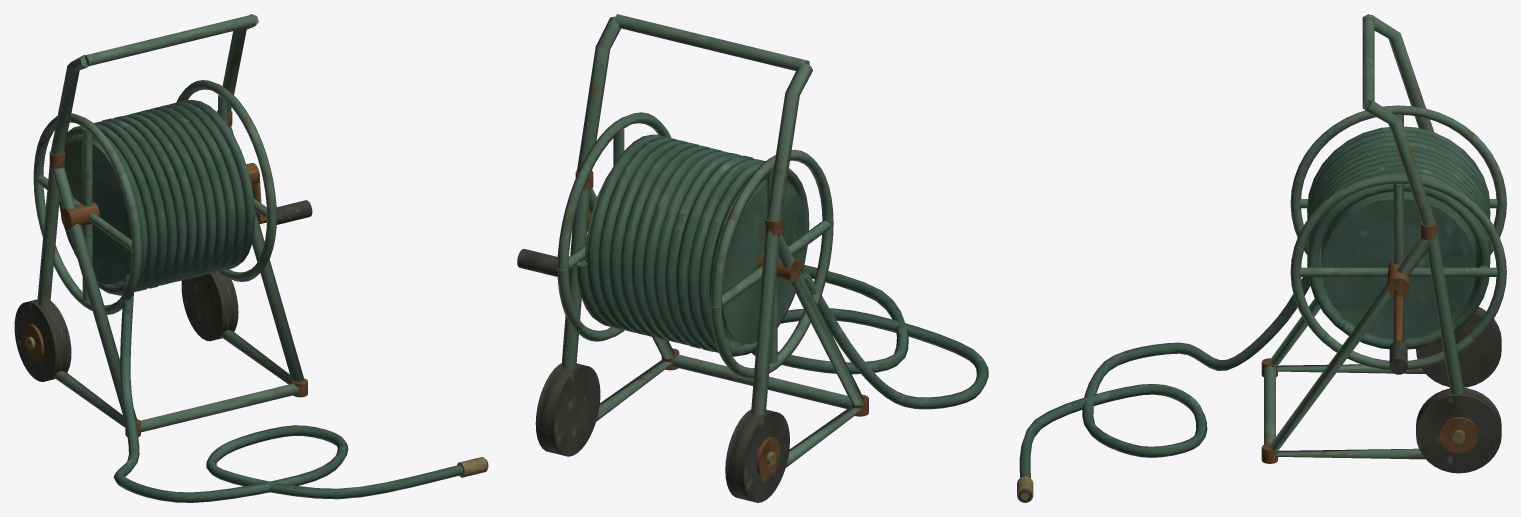
File: by_hose_reel.glb
3 views of the same model, side by side, from view 1: azimuth 30°, elevation 25°; view 2: azimuth 150°, elevation 25°; view 3: azimuth 270°, elevation 25° (orthographic). The views are drawn at different scales.
Parts seen in each view (by area): view 1: by_hose_reel; view 2: by_hose_reel; view 3: by_hose_reel.
Boxes of the visible parts, box(x1,y1,x2,y2) form: by_hose_reel: box(14, 14, 488, 502); by_hose_reel: box(517, 14, 988, 502); by_hose_reel: box(1017, 14, 1506, 502).
Bounding box in the file's own units: 0.8329 × 0.9511 × 1.14.
1 material, 1 textured.
